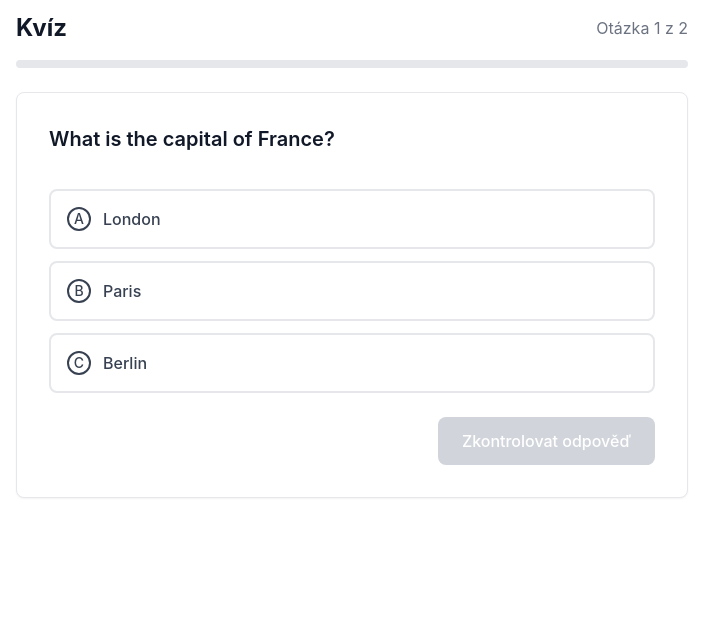
Test case: ChapterQuiz › moves to next question when next button is clicked
Answer first question
What coordinates should you click on to do the following:
click the radio button with test id "option-1"
I would click on:
 (122, 291)
Its box is [49,261,655,321].
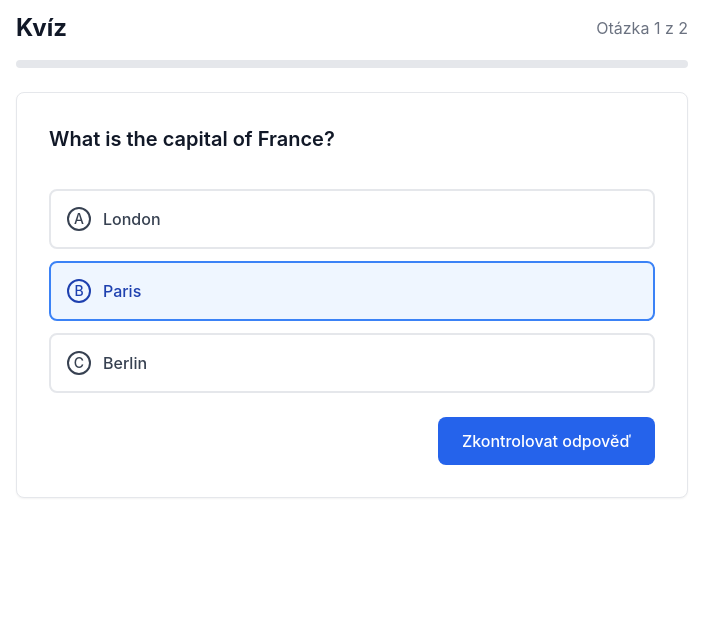
What coordinates should you click on to do the following:
click the button with test id "check-answer-button"
I would click on:
 (546, 441)
Its box is [438,417,655,465].
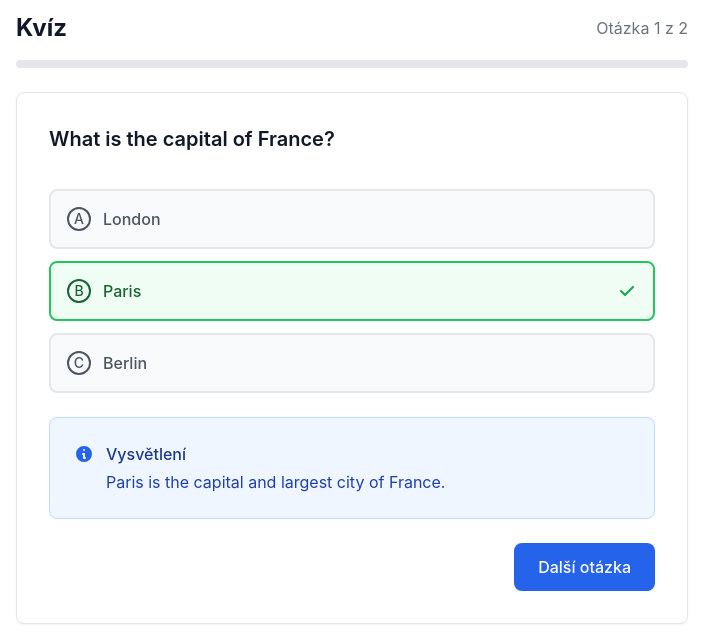
Move to next question
What coordinates should you click on to do the following:
click the button with test id "next-question-button"
I would click on:
 (585, 567)
Its box is [514,543,655,591].
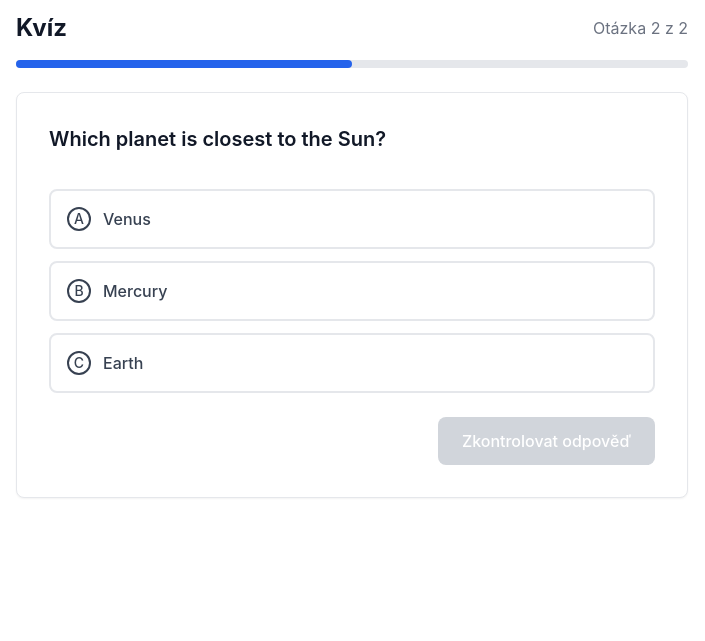
Now the heading "Which planet is closest to the Sun?" is shown, box [49,127,386,151]
Now the text "Otázka 2 z 2" is shown, box [593,16,688,40]
